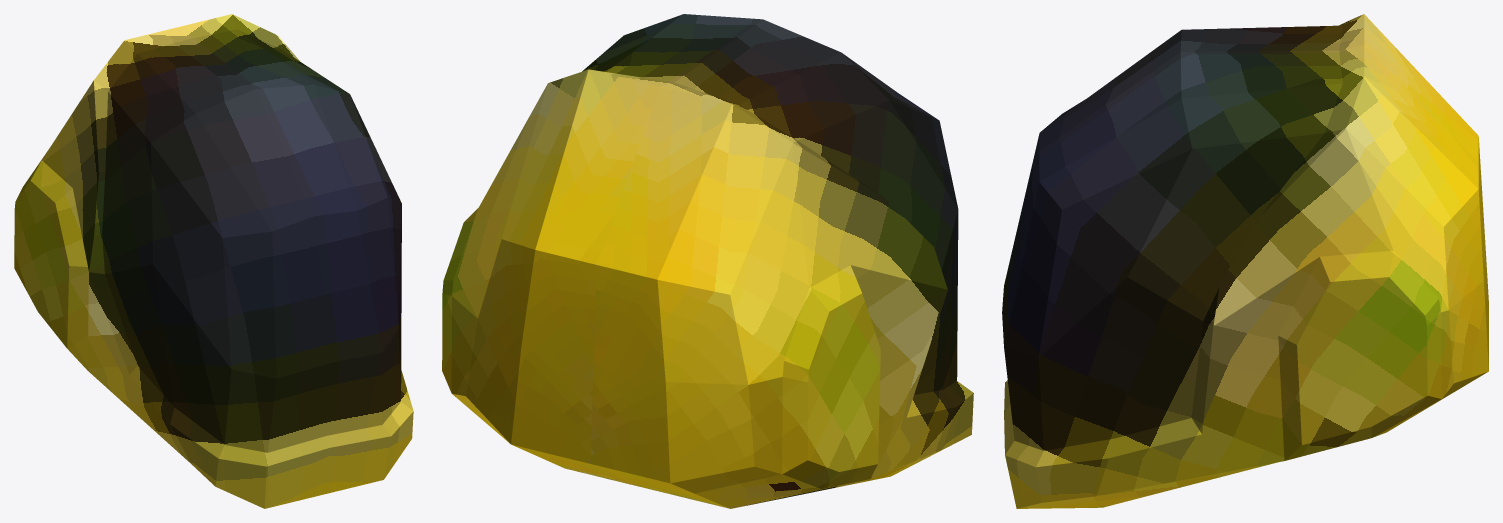
Rendered from daftpunk-transformed.glb.
3 views of the same model, side by side, from view 1: azimuth 30°, elevation 25°; view 2: azimuth 150°, elevation 25°; view 3: azimuth 270°, elevation 25° (orthographic). The views are drawn at different scales.
Visible parts, largest first — view 1: daftpunk; view 2: daftpunk; view 3: daftpunk.
Boxes of the visible parts, left/top/right/bottom form: daftpunk: left=14, top=14, right=413, bottom=508; daftpunk: left=442, top=14, right=973, bottom=508; daftpunk: left=1002, top=14, right=1488, bottom=508.
Bounding box in the file's own units: 9.37 × 10.57 × 10.87.
1 material, 1 textured.
